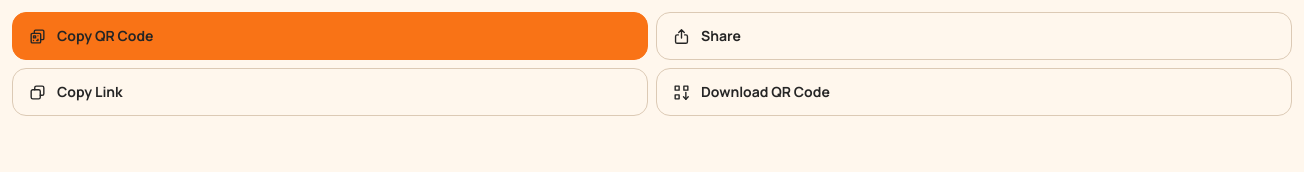
Test: QR actions › downloads the QR code as a PNG
Step 1. Click the button with test id "download-qr" → {"x": 765, "y": 92}, box [656,68,1292,116]
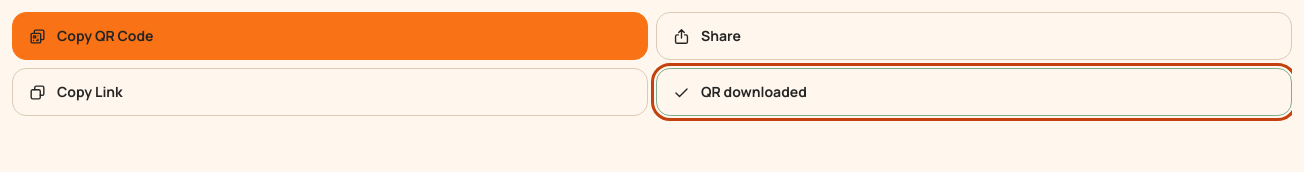
Expected: the button with test id "download-qr" reads "QR downloaded", [656,68,1292,116]
